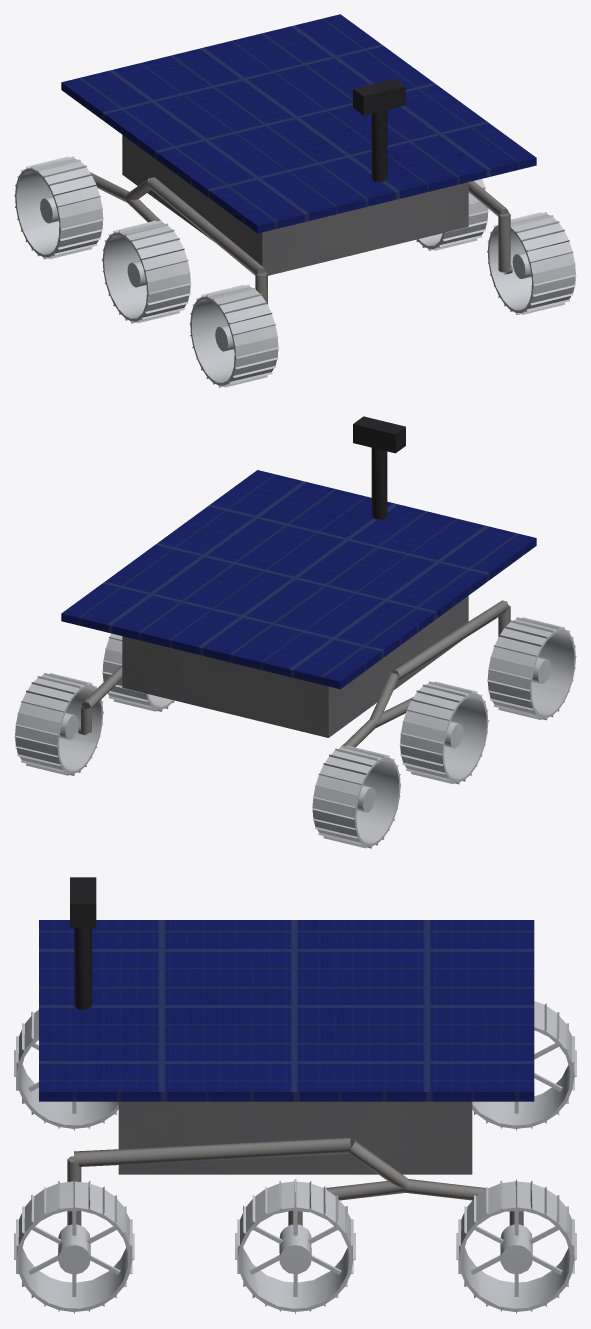
Rendered from rover00_micro_rover.glb.
3 views of the same model, one above another, from view 1: azimuth 30°, elevation 25°; view 2: azimuth 150°, elevation 25°; view 3: azimuth 270°, elevation 25° (orthographic). The views are drawn at different scales.
Visible parts, largest first — view 1: solar_panel, body_web, wheel_5, wheel_6, wheel_4, wheel_1, rocker_bogie, mast_camera, wheel_2; view 2: solar_panel, body_web, wheel_5, wheel_6, wheel_4, wheel_3, rocker_bogie, mast_camera, wheel_2; view 3: solar_panel, body_web, wheel_2, wheel_1, wheel_3, rocker_bogie, wheel_6, wheel_4, mast_camera.
Boxes of the visible parts, bbox=[...] form: solar_panel: bbox=[61, 14, 536, 233]; body_web: bbox=[122, 135, 468, 275]; wheel_5: bbox=[101, 220, 191, 323]; wheel_6: bbox=[14, 156, 103, 259]; wheel_4: bbox=[189, 284, 279, 387]; wheel_1: bbox=[487, 212, 576, 314]; rocker_bogie: bbox=[90, 172, 512, 304]; mast_camera: bbox=[353, 78, 405, 181]; wheel_2: bbox=[416, 179, 488, 250]; solar_panel: bbox=[61, 470, 536, 689]; body_web: bbox=[122, 596, 468, 737]; wheel_5: bbox=[399, 681, 489, 784]; wheel_6: bbox=[312, 745, 401, 848]; wheel_4: bbox=[487, 617, 576, 720]; wheel_3: bbox=[14, 673, 104, 775]; rocker_bogie: bbox=[78, 600, 510, 747]; mast_camera: bbox=[353, 416, 405, 519]; wheel_2: bbox=[102, 633, 174, 711]; solar_panel: bbox=[39, 920, 534, 1101]; body_web: bbox=[118, 1101, 472, 1174]; wheel_2: bbox=[235, 1179, 355, 1314]; wheel_1: bbox=[14, 1179, 134, 1313]; wheel_3: bbox=[456, 1179, 576, 1313]; rocker_bogie: bbox=[67, 1138, 523, 1225]; wheel_6: bbox=[472, 1001, 576, 1130]; wheel_4: bbox=[14, 1010, 118, 1130]; mast_camera: bbox=[70, 877, 96, 1009].
Bounding box in the file's own units: 0.56 × 0.3983 × 0.6365.
Materials: 5 (4 with a texture image).
